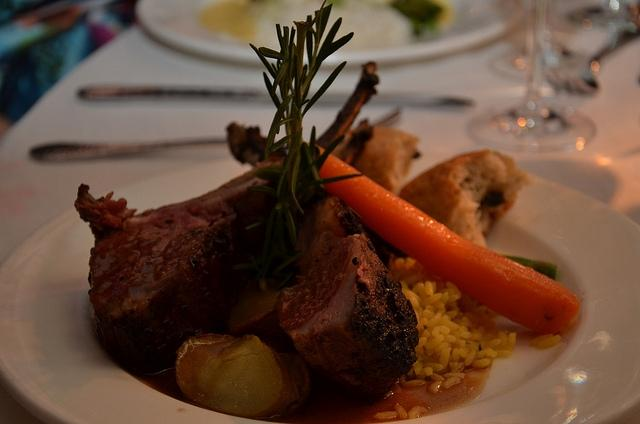carrot: (316, 144, 578, 336)
potato: (174, 334, 300, 420), (225, 276, 280, 340)
